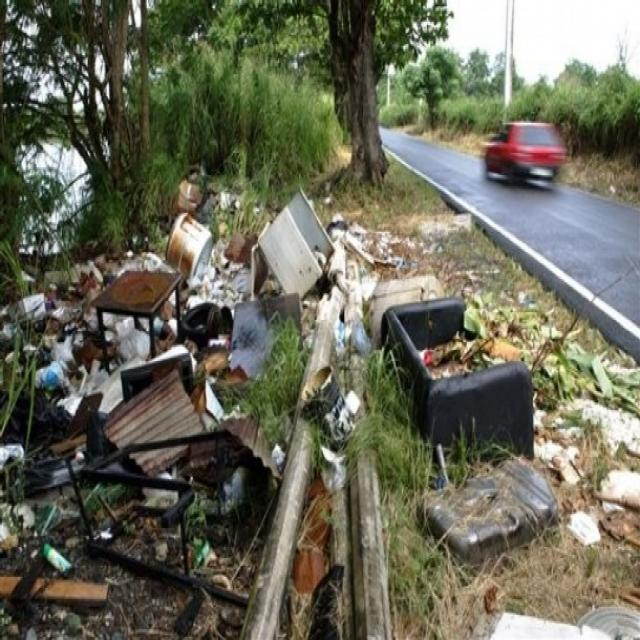garbage: (7, 192, 584, 638)
